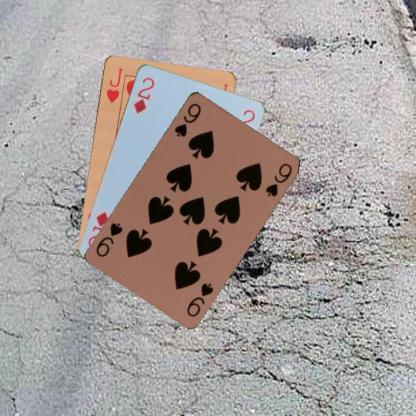2d: (130, 74, 156, 115)
9s: (184, 280, 215, 320), (172, 100, 202, 138)
Jh: (103, 64, 124, 104)
